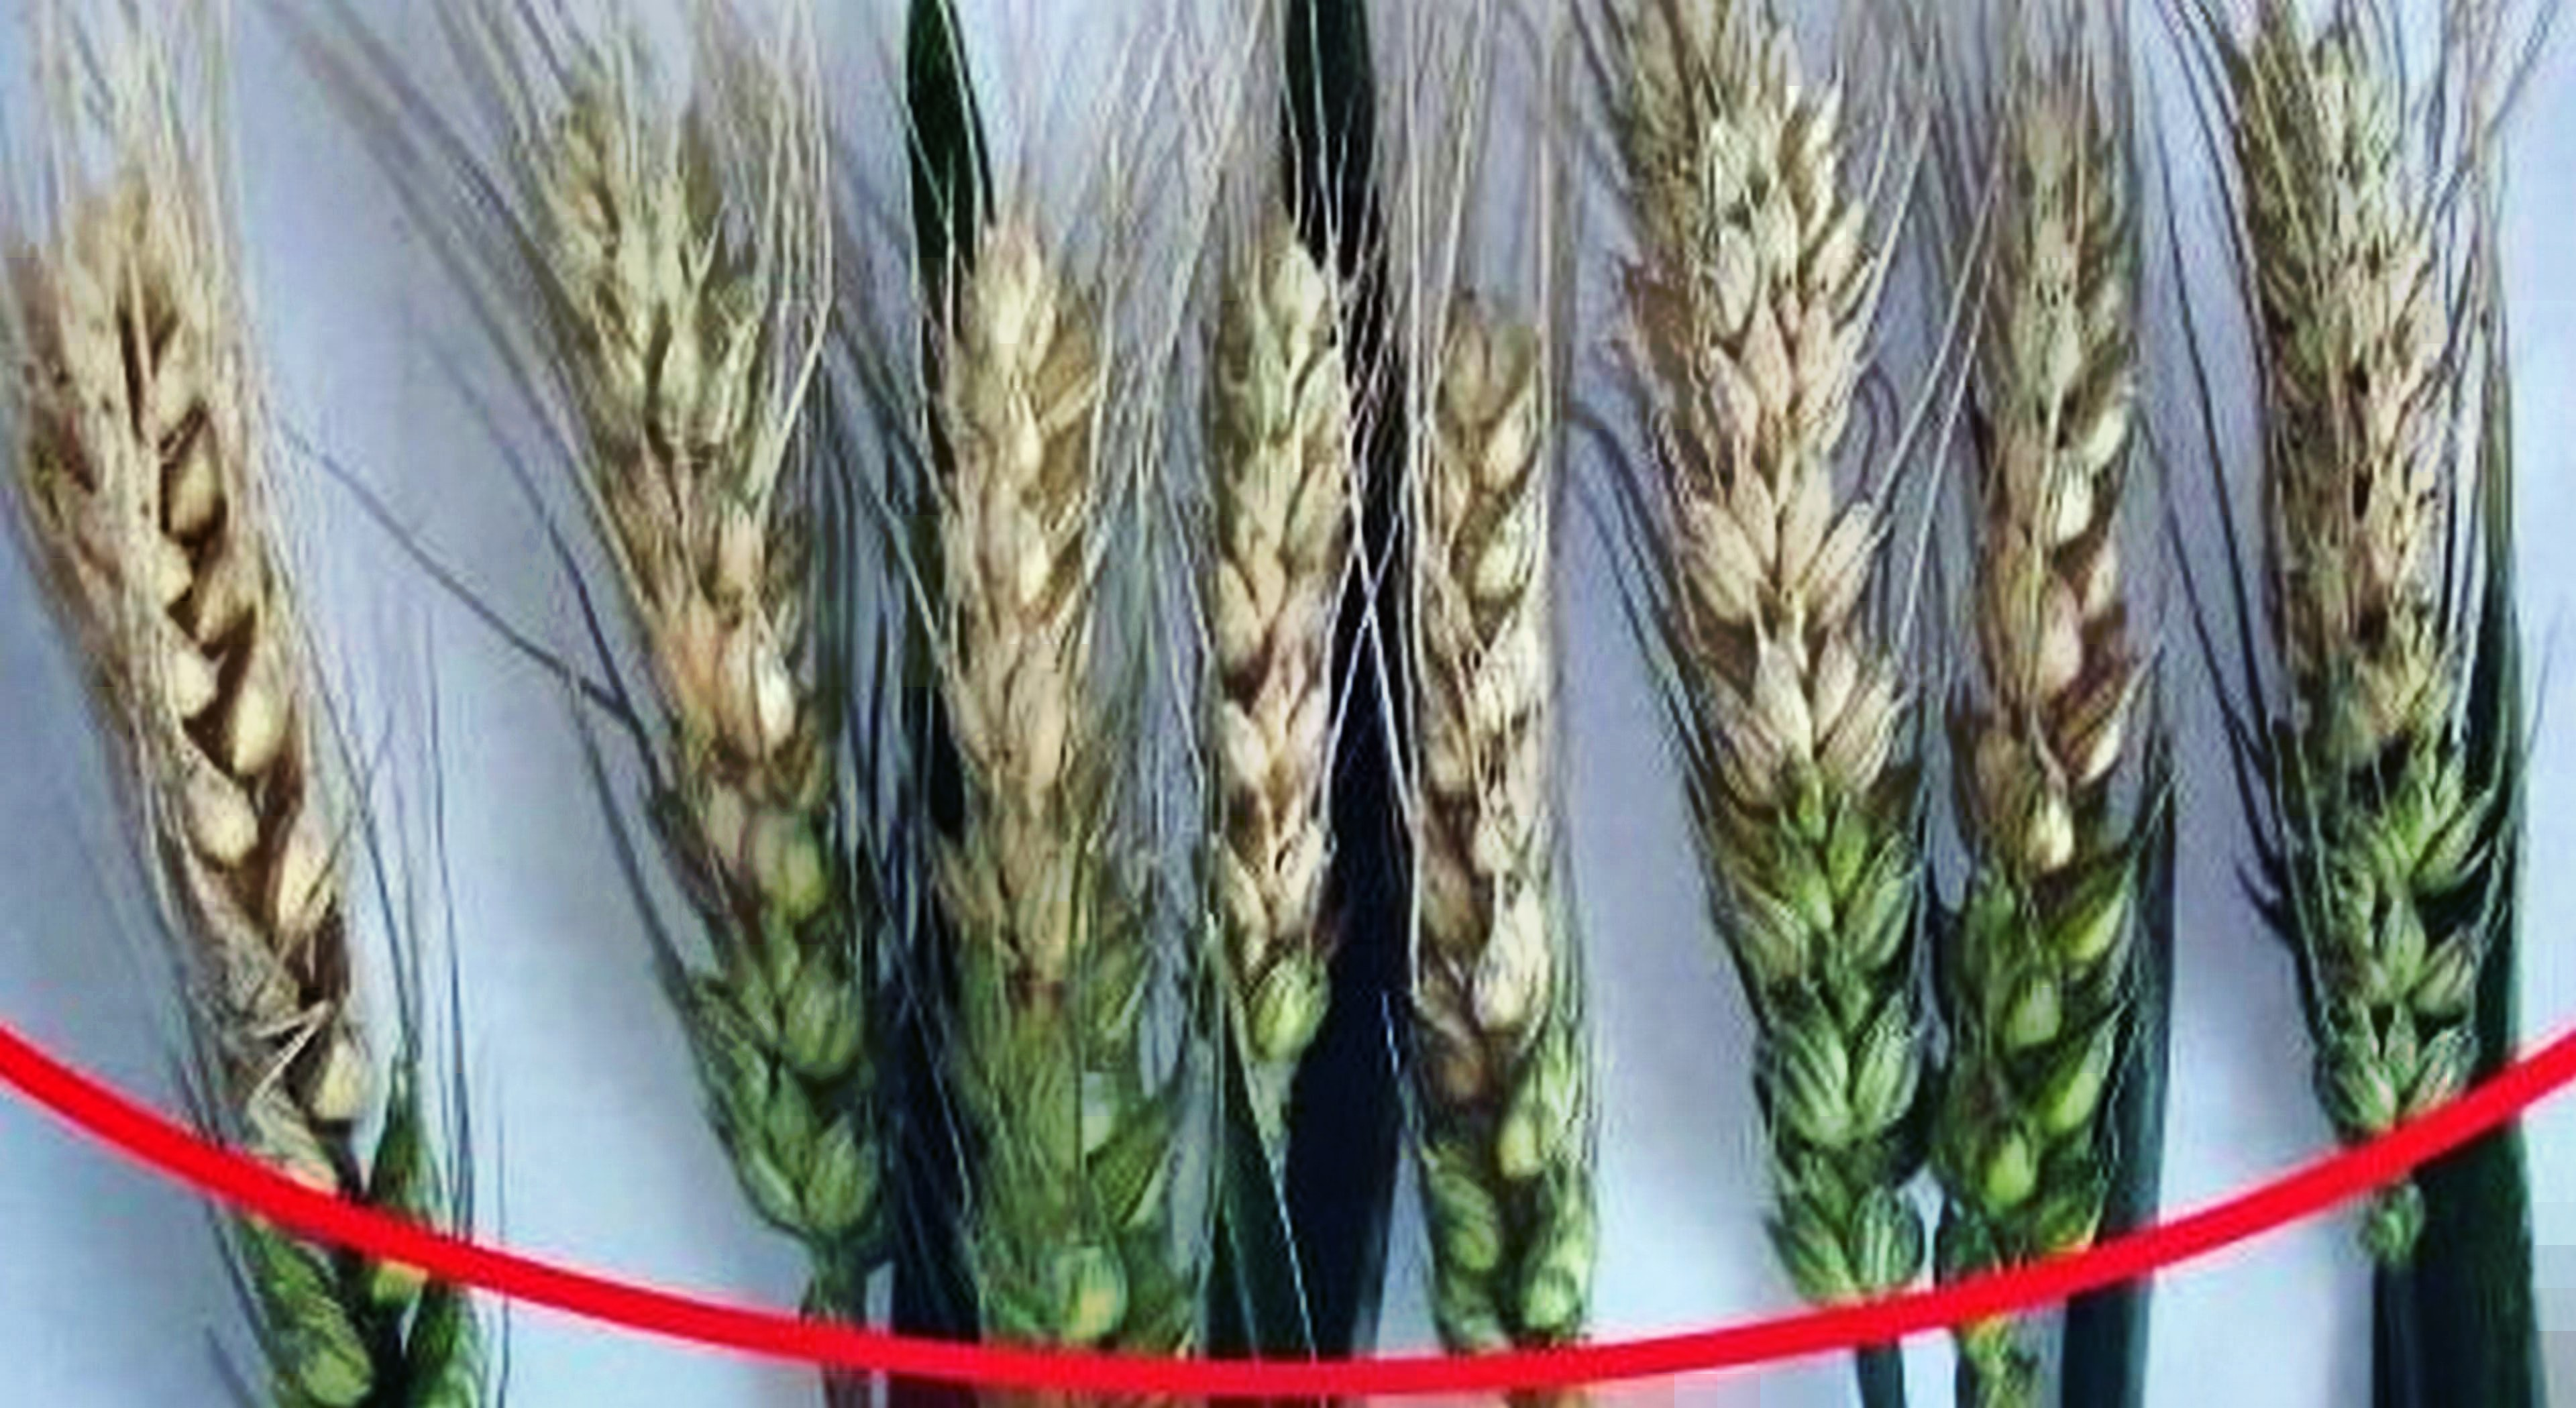Wheat scab: (47, 172, 477, 1349), (1621, 64, 1955, 1280), (563, 191, 894, 1254), (2229, 57, 2534, 1183), (1371, 297, 1633, 1361), (912, 239, 1158, 1344)
